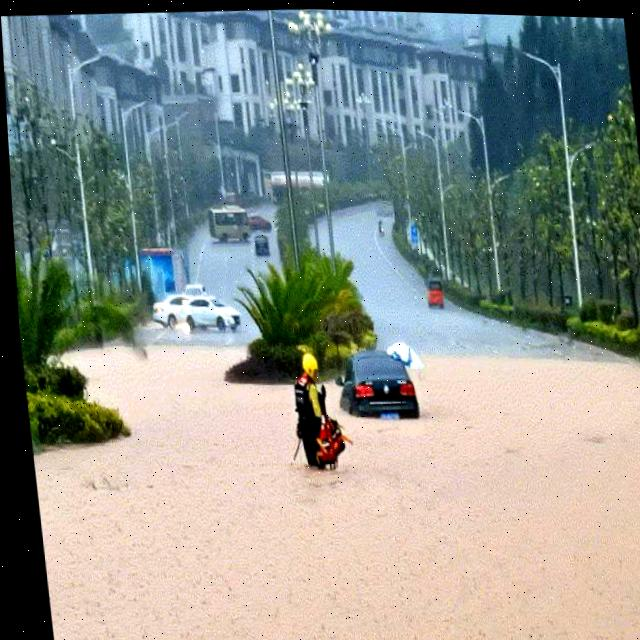rescuer: (278, 348, 355, 480)
